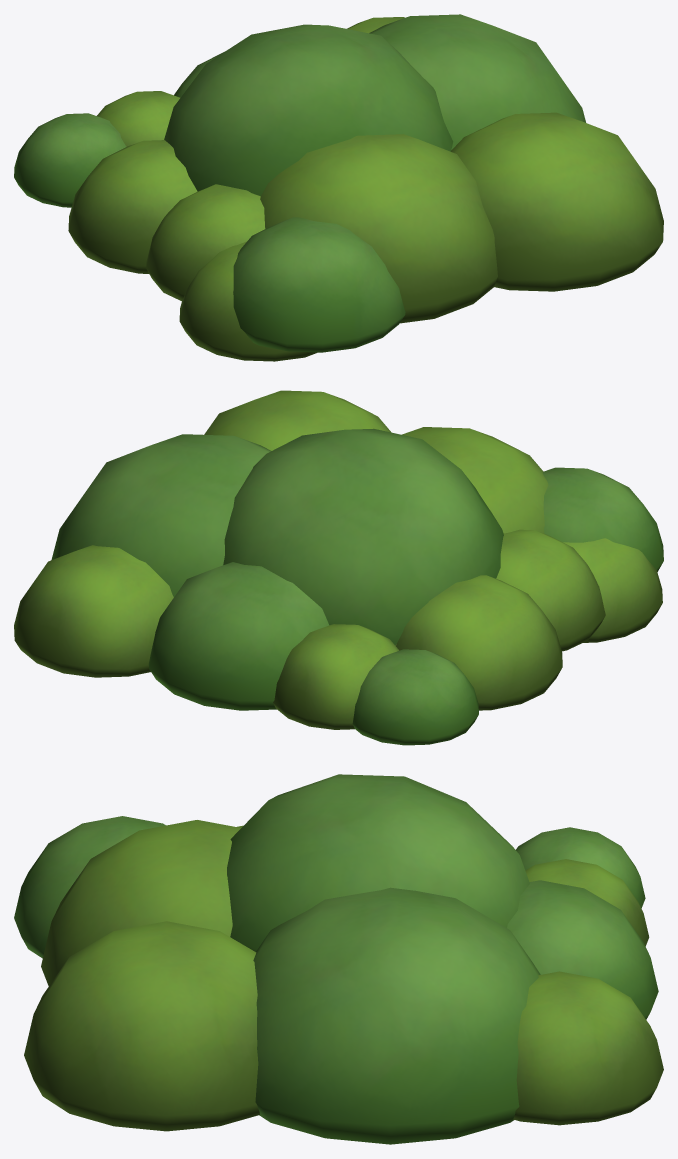
The model's file is BeverlyHills4.fbx.
3 views of the same model, one above another, from view 1: azimuth 30°, elevation 25°; view 2: azimuth 150°, elevation 25°; view 3: azimuth 270°, elevation 25° (orthographic). The views are drawn at different scales.
Parts seen in each view (by area): view 1: pCube53, pCube18, pCube20, pCube30, pCube29, pCube15, pCube16, pCube17, pCube21, pCube22; view 2: pCube53, pCube29, pCube27, pCube26, pCube15, pCube17, pCube22, pCube16, pCube30, pCube20, pCube18, pCube21; view 3: pCube29, pCube18, pCube53, pCube26, pCube20, pCube27, pCube30, pCube17, pCube22.
Boxes of the visible parts, x1=… form: pCube53: x1=164, y1=24, x2=453, y2=196; pCube18: x1=451, y1=112, x2=663, y2=291; pCube20: x1=260, y1=134, x2=497, y2=323; pCube30: x1=233, y1=217, x2=405, y2=352; pCube29: x1=369, y1=14, x2=585, y2=149; pCube15: x1=68, y1=140, x2=197, y2=273; pCube16: x1=146, y1=184, x2=265, y2=301; pCube17: x1=14, y1=113, x2=126, y2=207; pCube21: x1=179, y1=241, x2=317, y2=361; pCube22: x1=97, y1=91, x2=179, y2=146; pCube53: x1=223, y1=428, x2=503, y2=645; pCube29: x1=51, y1=434, x2=271, y2=596; pCube27: x1=148, y1=562, x2=329, y2=710; pCube26: x1=14, y1=545, x2=173, y2=677; pCube15: x1=396, y1=575, x2=562, y2=710; pCube17: x1=352, y1=649, x2=478, y2=745; pCube22: x1=273, y1=624, x2=398, y2=729; pCube16: x1=496, y1=529, x2=605, y2=651; pCube30: x1=543, y1=467, x2=663, y2=571; pCube20: x1=402, y1=427, x2=548, y2=533; pCube18: x1=204, y1=390, x2=391, y2=450; pCube21: x1=563, y1=538, x2=662, y2=642; pCube29: x1=253, y1=887, x2=540, y2=1144; pCube18: x1=24, y1=921, x2=259, y2=1131; pCube53: x1=227, y1=774, x2=529, y2=951; pCube26: x1=513, y1=971, x2=663, y2=1125; pCube20: x1=41, y1=820, x2=240, y2=986; pCube27: x1=507, y1=880, x2=658, y2=1019; pCube30: x1=14, y1=816, x2=165, y2=958; pCube17: x1=516, y1=827, x2=645, y2=908; pCube22: x1=525, y1=859, x2=649, y2=946.
Bounding box in the file's own units: 261 × 105 × 264.
